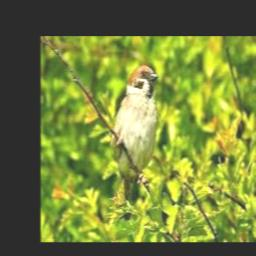Sparrow: (112, 65, 159, 221)
